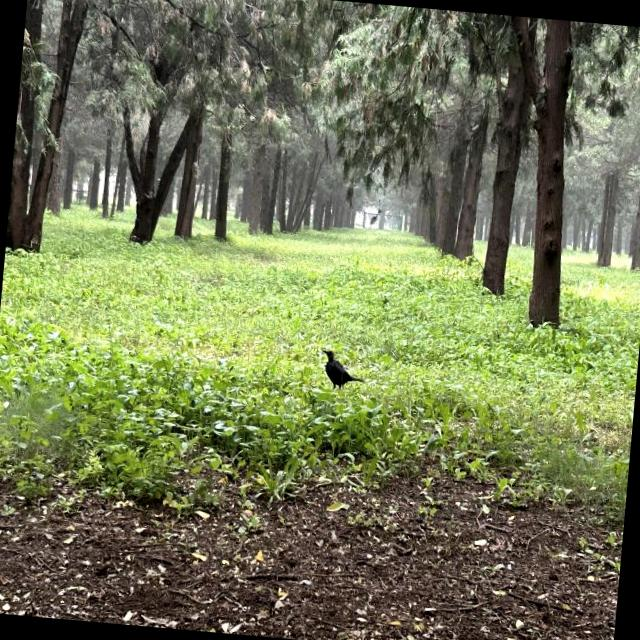bird: (317, 344, 366, 396)
